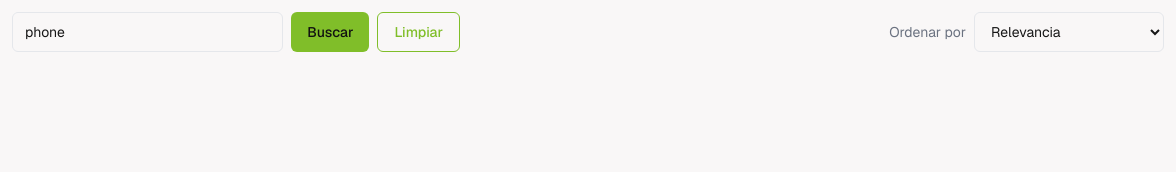
Test: ProductToolbar › «Limpiar» quita la búsqueda pero conserva la categoría
Step 1. Click the button "Limpiar" → {"x": 419, "y": 32}, box [377,12,460,52]
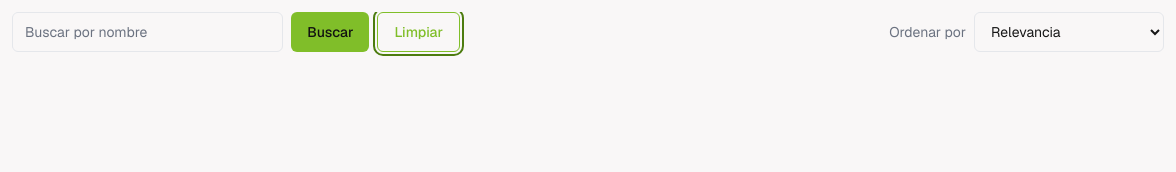
Check: the search field named "Buscar productos" is empty, box [12,12,283,52]
